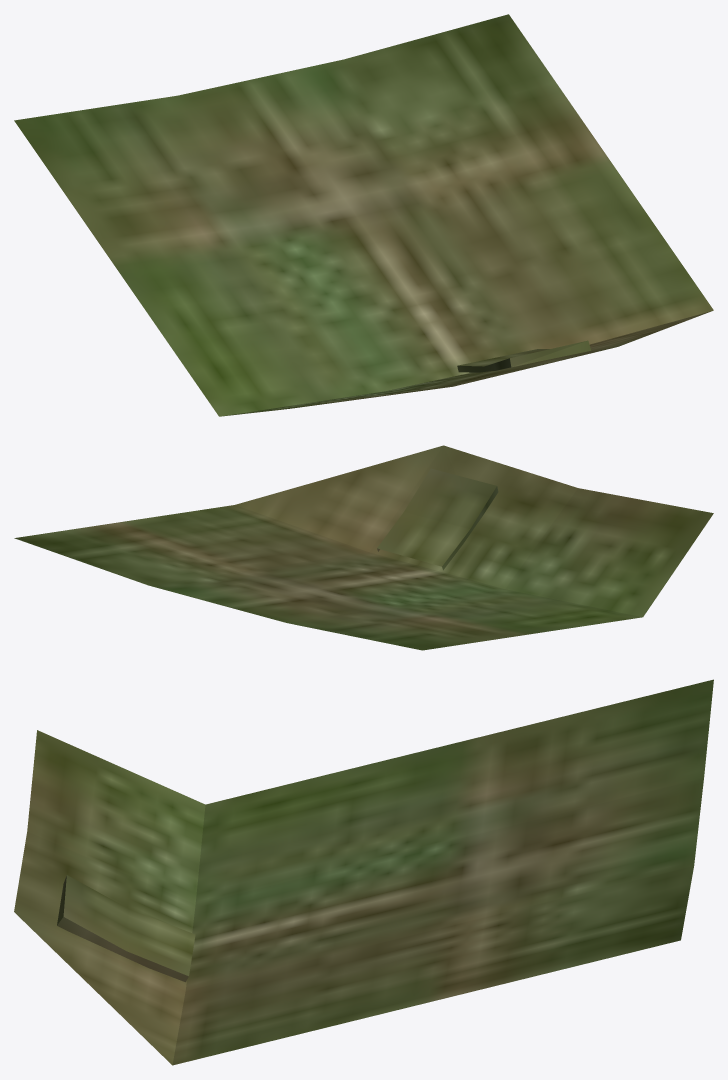
Rendered from prop_garden_plot_game_lod2.glb.
3 views of the same model, one above another, from view 1: azimuth 30°, elevation 25°; view 2: azimuth 150°, elevation 25°; view 3: azimuth 270°, elevation 25° (orthographic). The views are drawn at different scales.
Visible parts, largest first — view 1: geometry_0; view 2: geometry_0; view 3: geometry_0.
Part boxes in pixels (left/top/right/bottom): geometry_0: left=14, top=14, right=713, bottom=416; geometry_0: left=14, top=445, right=713, bottom=650; geometry_0: left=14, top=679, right=713, bottom=1065.
Bounding box in the file's own units: 14.5 × 3.66 × 15.53.
1 material, 1 textured.
